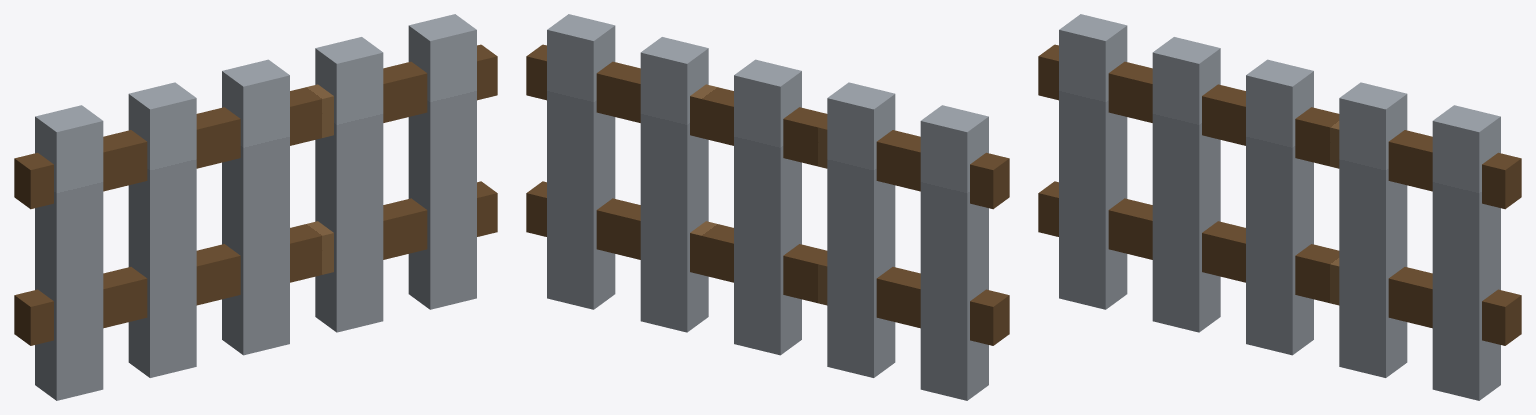
File: fence.glb
3 renders of one model, left to right at view 1: azimuth 30°, elevation 25°; view 2: azimuth 150°, elevation 25°; view 3: azimuth 330°, elevation 25°, orthographic.
Visible parts, largest first — view 1: fence; view 2: fence; view 3: fence.
Part boxes in pixels (x1,y1,x2,y2): fence: (14,14,497,400); fence: (526,14,1009,400); fence: (1038,14,1521,400).
Bounding box in the file's own units: 1 × 0.55 × 0.08.
2 materials, 2 textured.
